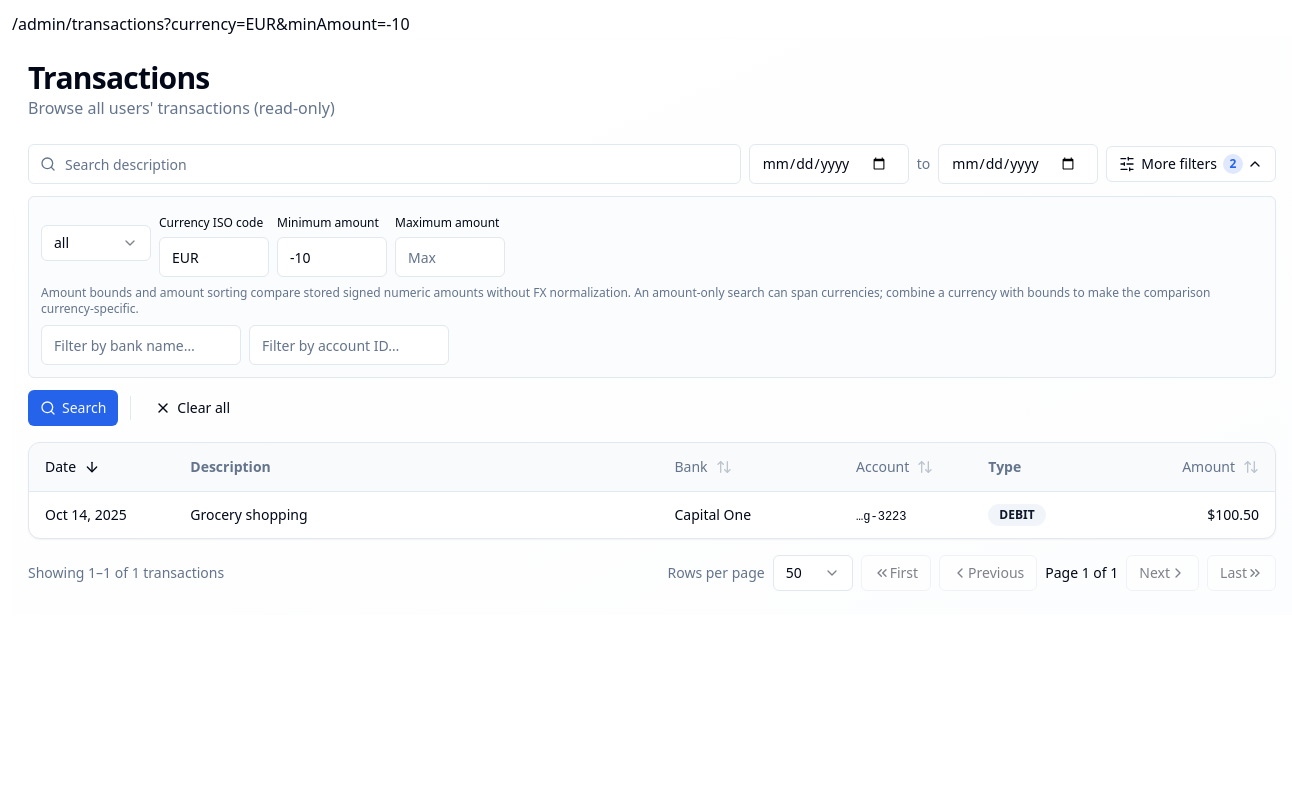
Test: AdminTransactionsPage › clears currency and amount filters from a deep link
Expected: the text "Grocery shopping" is shown, [190,504,308,524]
Click the button "Clear all" at point(193, 408), box [143,390,242,426]
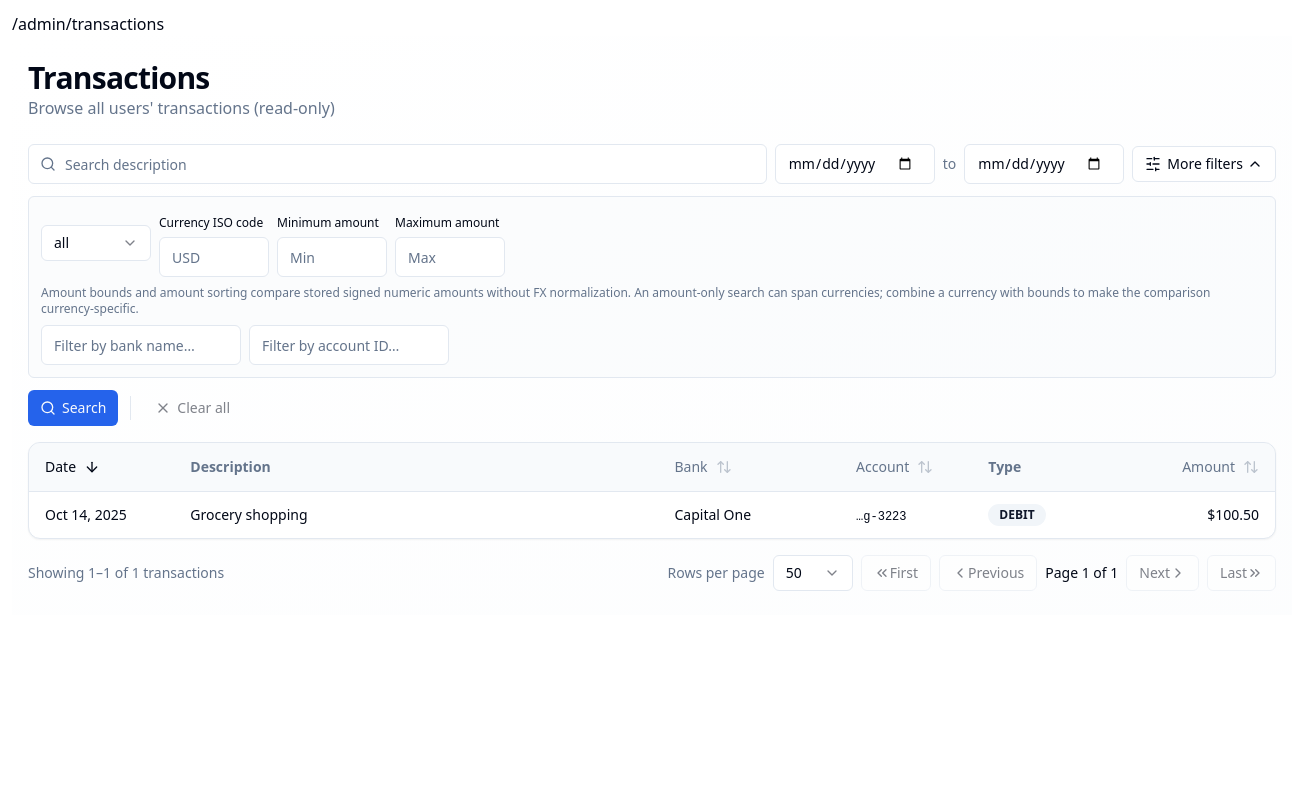
Expected: the text with test id "location" reads "/admin/transactions", [12,13,164,35]
Expected: the field labelled "Currency ISO code" is empty, [159,237,269,277]
Expected: the number field labelled "Minimum amount" is not empty, [277,237,387,277]
